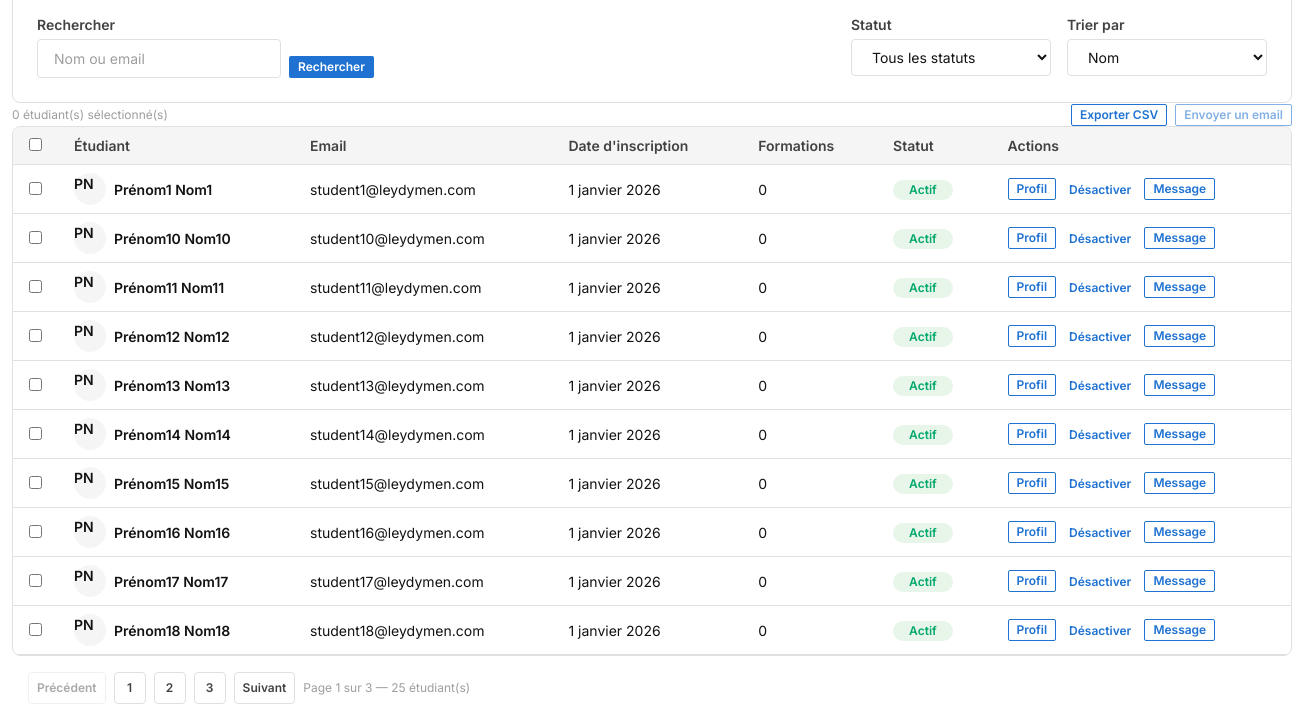
Test: StudentListComponent › should paginate when there are more students than the page size
The width and height of the screenshot is (1304, 720).
(page scrolled)
Step 1. Click the button "2" → click(170, 688), box [154,672,186,704]
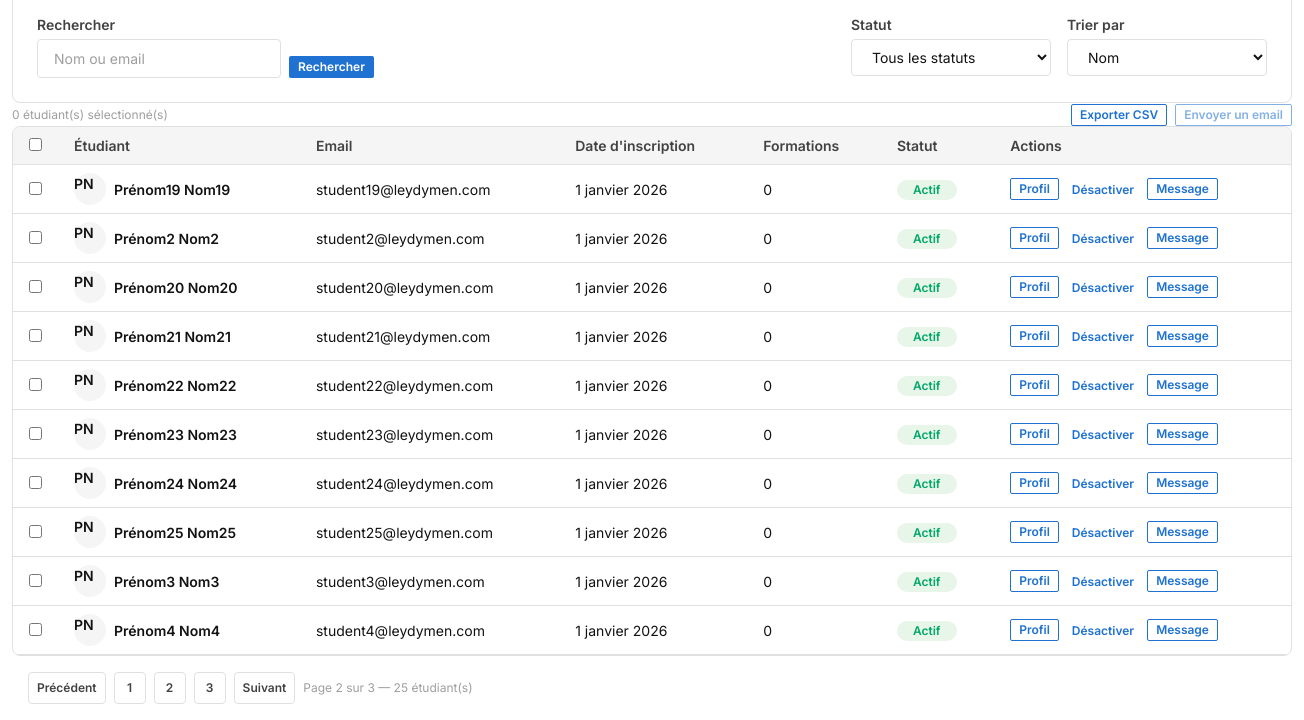
expect the text "Page 2 sur 3" is shown: met, box [303,680,473,695]
expect the text "Prénom19 Nom19" is shown: met, box [114,179,230,200]
expect the text "Prénom1 Nom1" is gone: met
